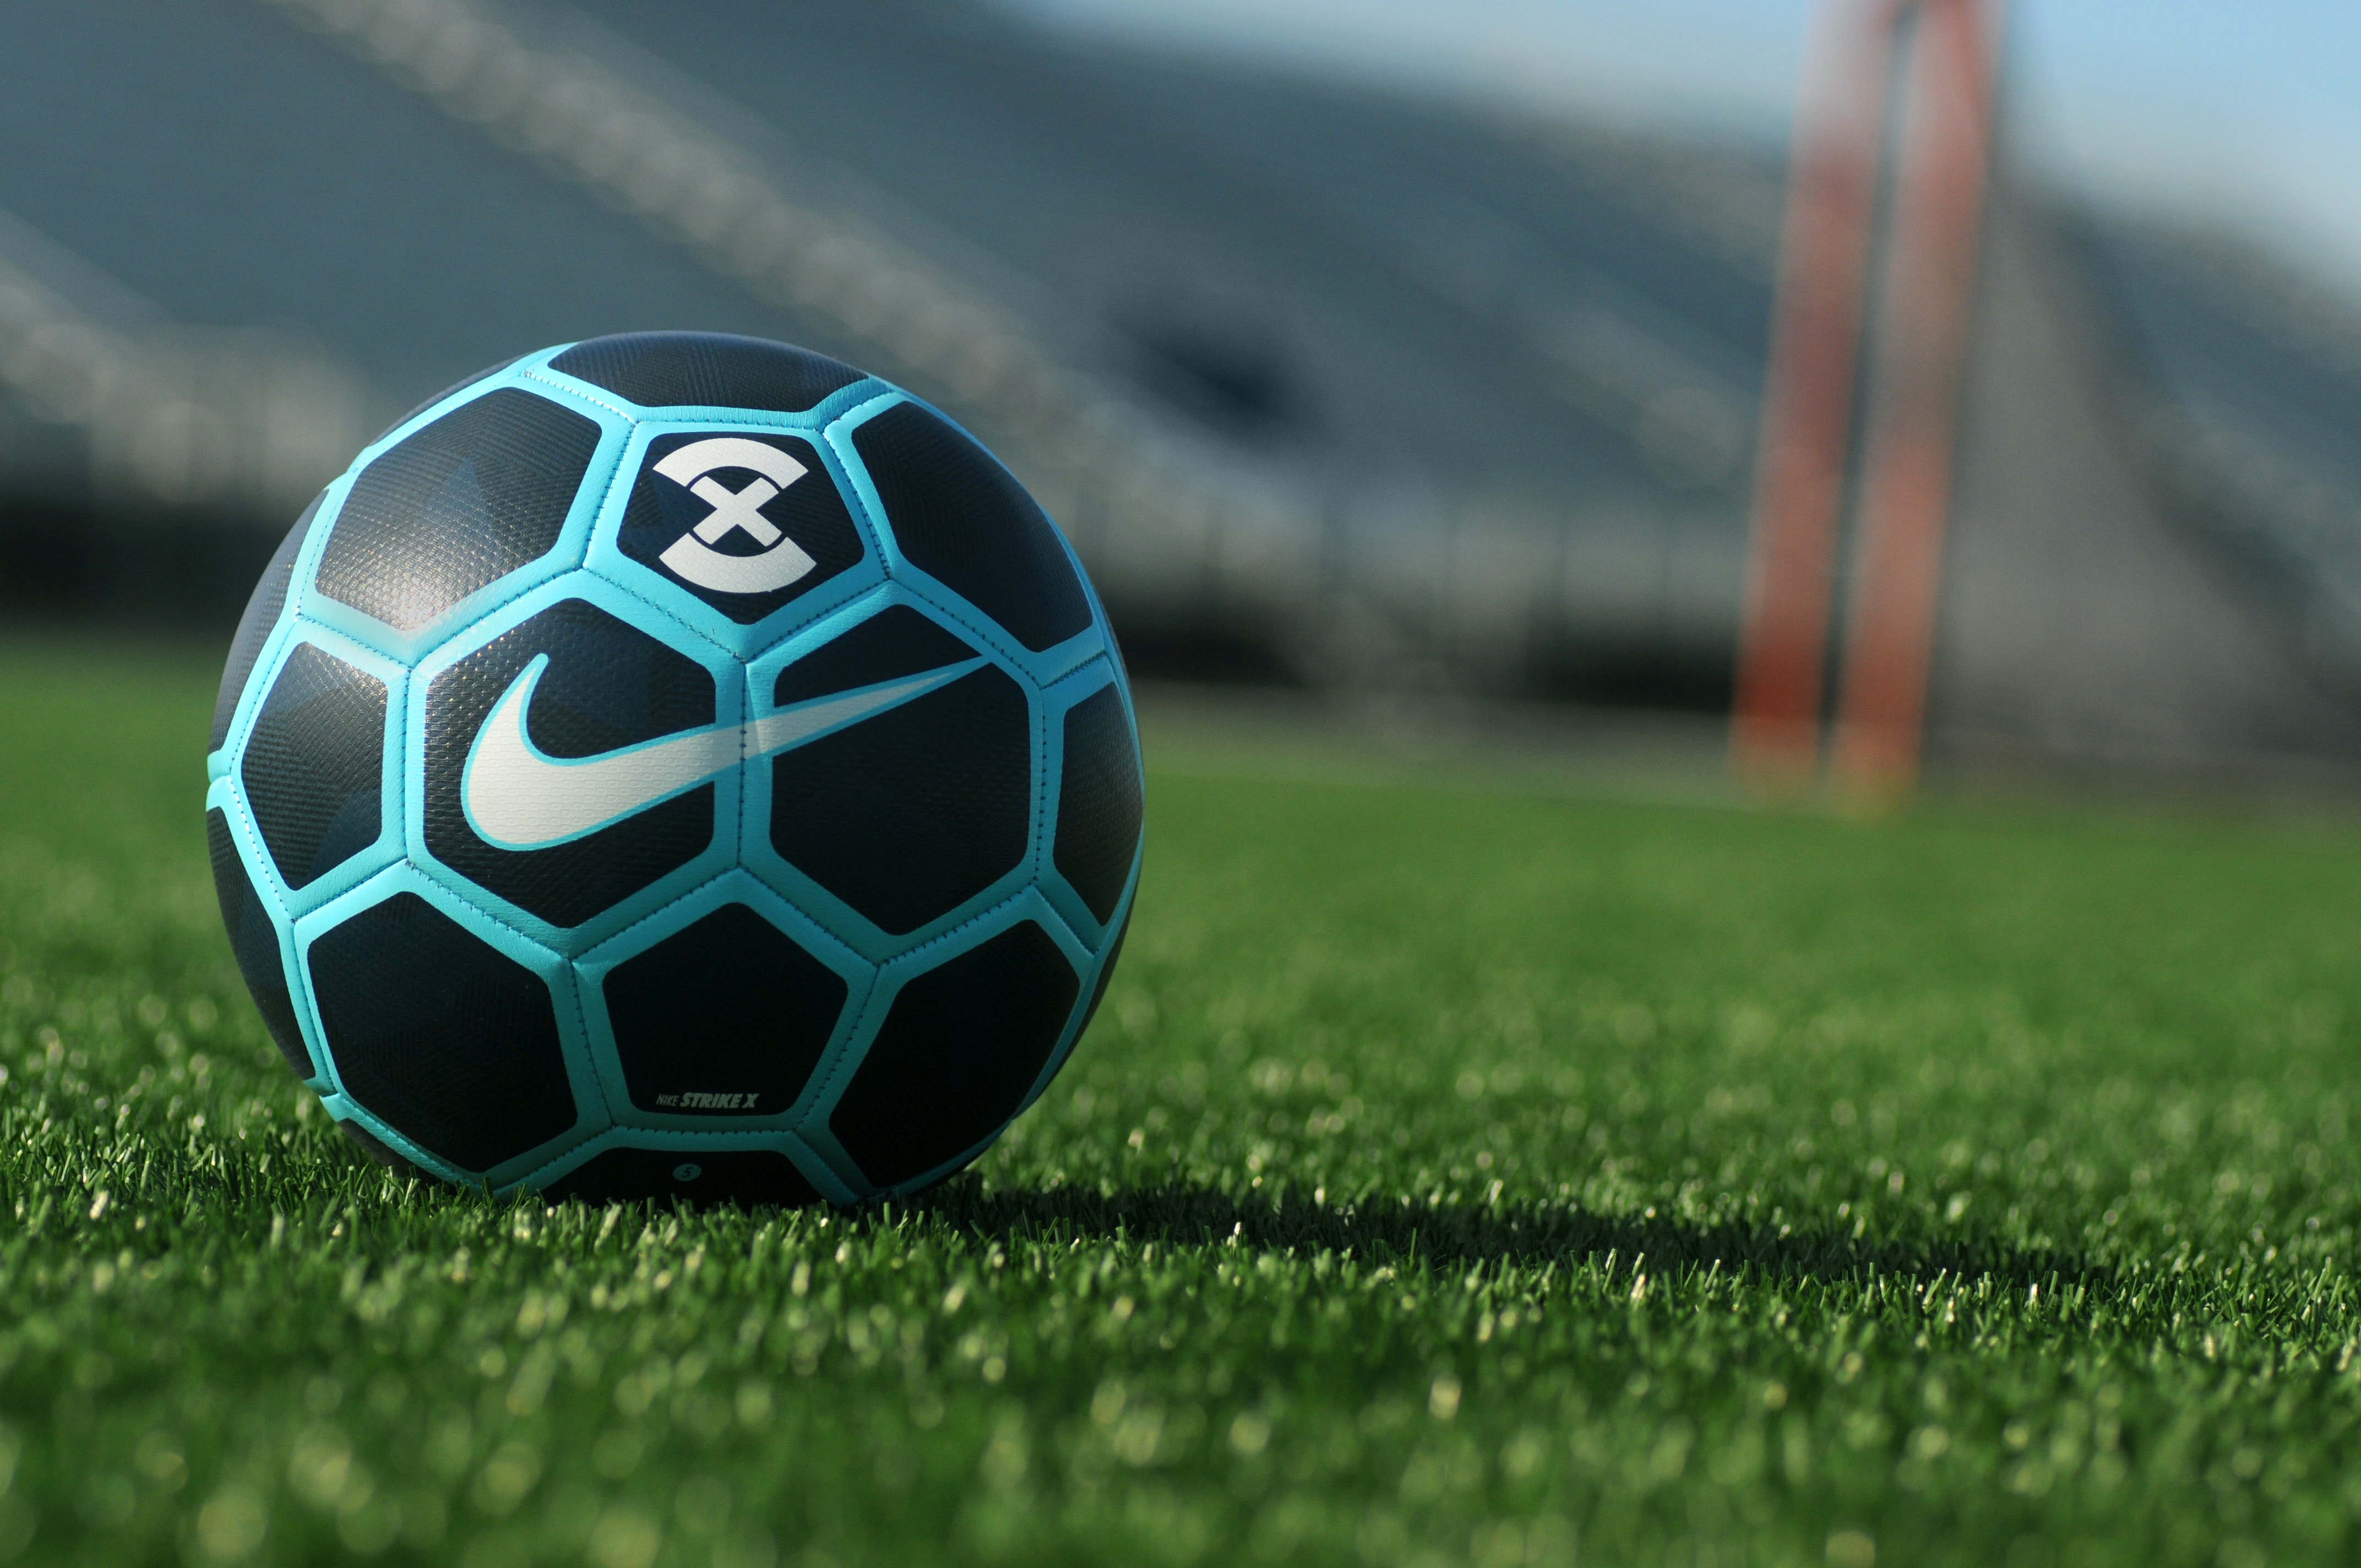soccer ball: (161, 315, 1215, 1260)
